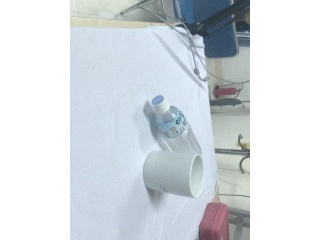bottle: (151, 95, 202, 156)
cup: (143, 150, 204, 199)
